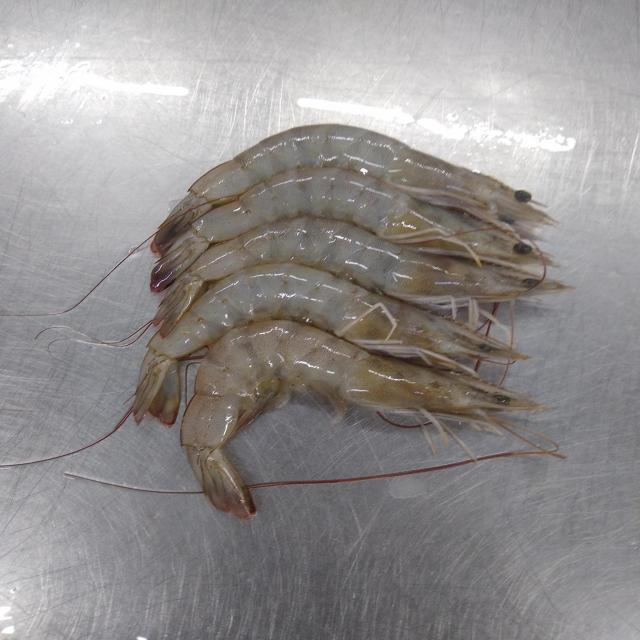shrimp: (182, 320, 543, 519), (132, 264, 527, 424), (153, 124, 553, 254), (188, 168, 542, 272), (177, 218, 565, 306)
